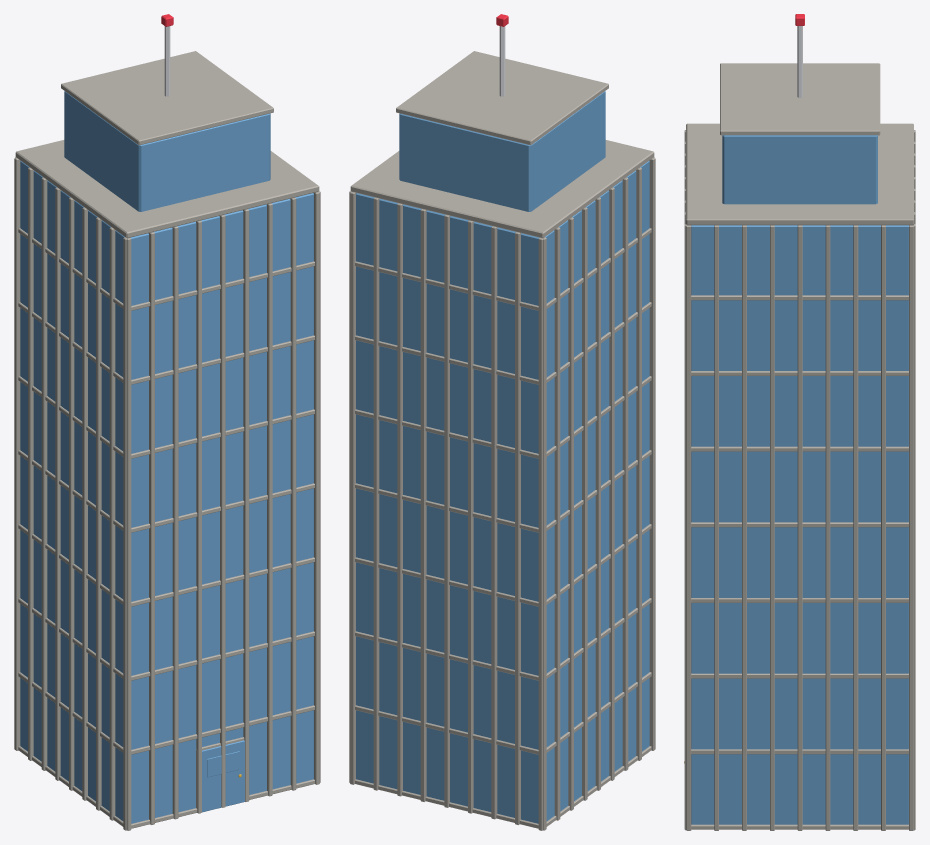
Rendered from Skyscraper.fbx.
3 renders of one model, left to right at view 1: azimuth 30°, elevation 25°; view 2: azimuth 150°, elevation 25°; view 3: azimuth 270°, elevation 25°, orthographic. The views are drawn at different scales.
Parts seen in each view (by area): view 1: Skyscraper; view 2: Skyscraper; view 3: Skyscraper.
Boxes of the visible parts, bbox=[...] form: Skyscraper: bbox=[14, 14, 320, 830]; Skyscraper: bbox=[349, 14, 655, 830]; Skyscraper: bbox=[684, 14, 915, 830].
Bounding box in the file's own units: 16.6 × 60.85 × 16.62.
Materials: 1 (1 with a texture image).
